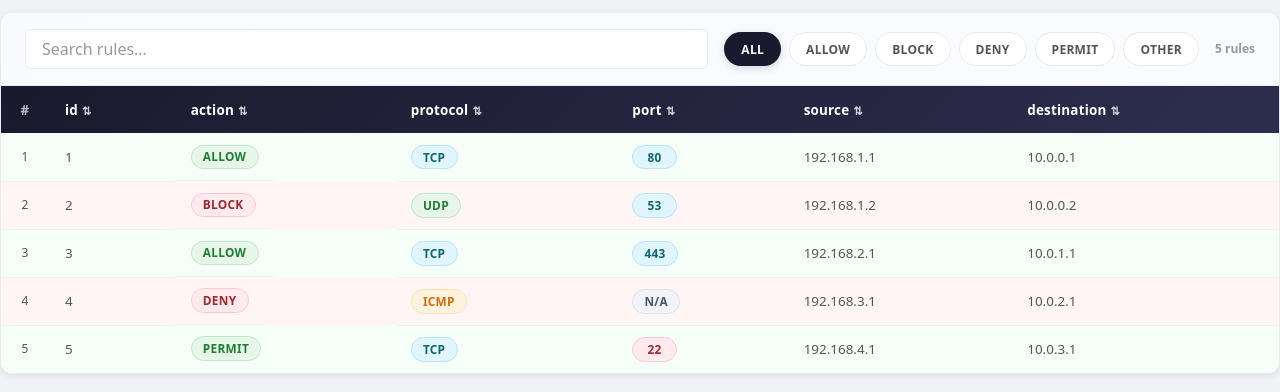
Test case: RulesTable Component › Search Functionality › shows no matching results when search has no matches
Type "nonexistent" into the field with placeholder "Search rules…".
click(367, 49); type("nonexistent")  # box [25,29,708,69]
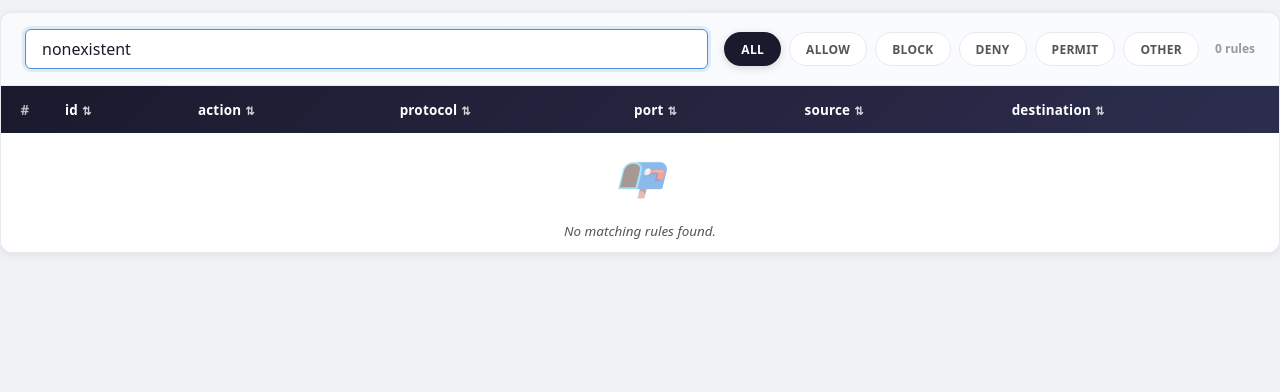
Now the text "No matching rules found." is shown, box [1,133,1279,252]
